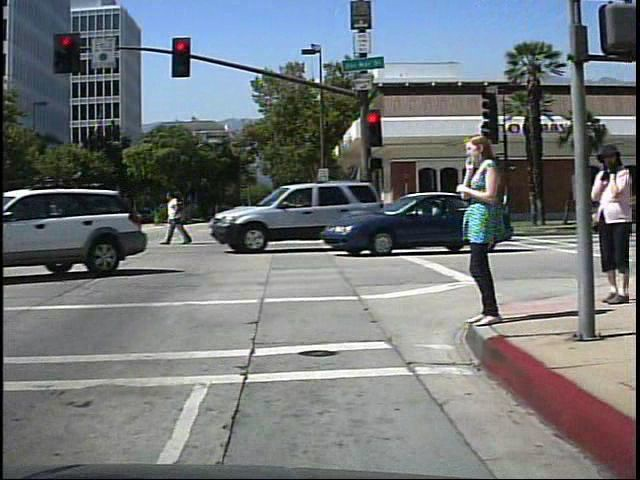person: (455, 126, 512, 330), (585, 137, 632, 314)
